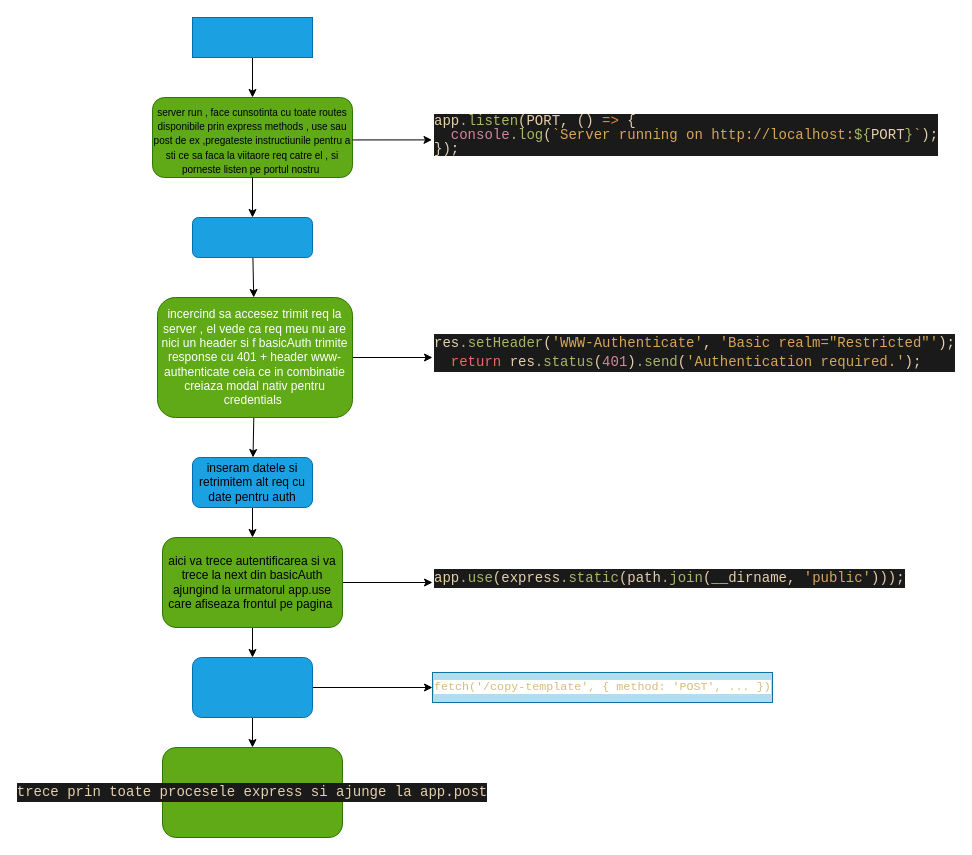
Some shapes in this 972 by 855 pixel diagram are drawn without their labels. The box of each missing label's shape, as (x1, y1, x2, y2) in pixels:
inseram datele in formular si apasam send: (192, 656, 312, 718)
localhost:PORT: (192, 216, 312, 258)
npm start: (192, 16, 312, 58)
